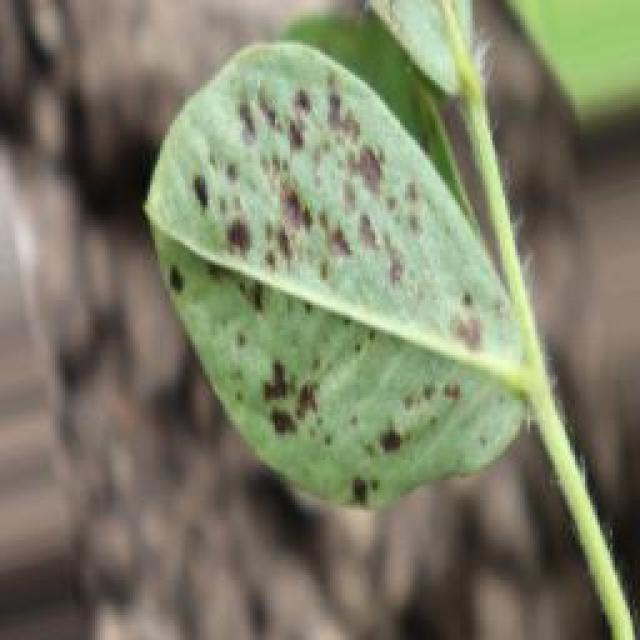Whitefly: (110, 2, 530, 552)
